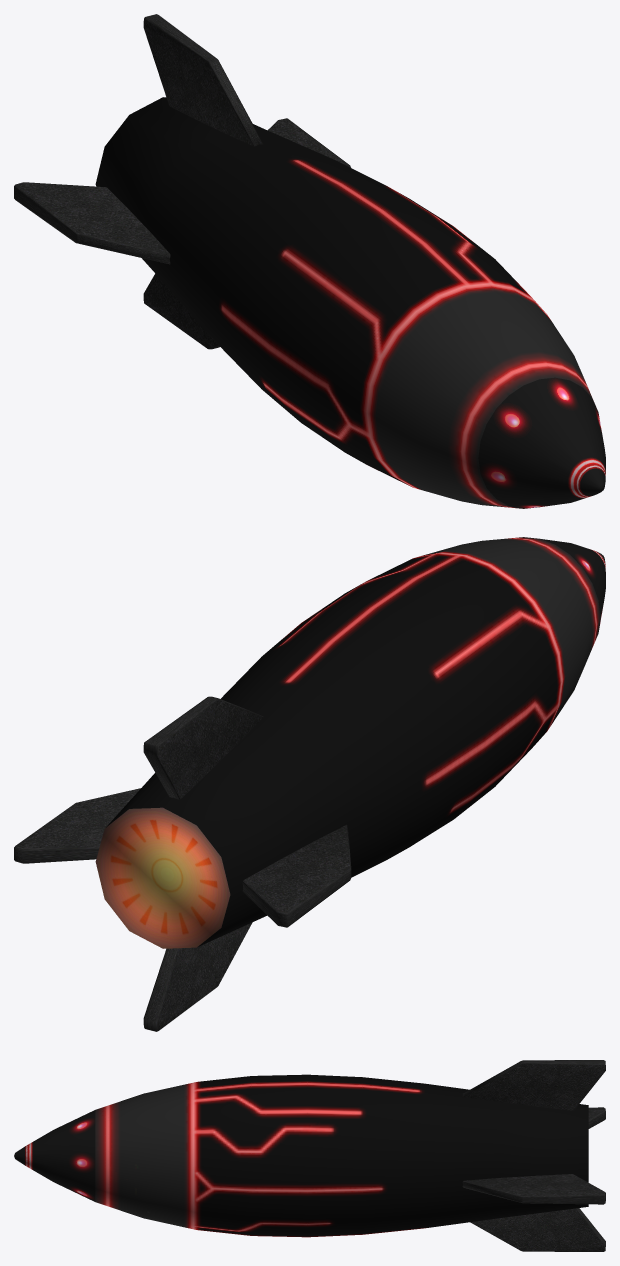
File: Missile.FBX
3 renders of one model, top to bottom at view 1: azimuth 30°, elevation 25°; view 2: azimuth 150°, elevation 25°; view 3: azimuth 270°, elevation 25°, orthographic. The views are drawn at different scales.
Parts seen in each view (by area): view 1: polySurface2; view 2: polySurface2; view 3: polySurface2.
Boxes of the visible parts, x1=… form: polySurface2: x1=14, y1=14, x2=605, y2=508; polySurface2: x1=14, y1=537, x2=605, y2=1031; polySurface2: x1=14, y1=1060, x2=605, y2=1251.
Bounding box in the file's own units: 32.15 × 32.15 × 91.51.
